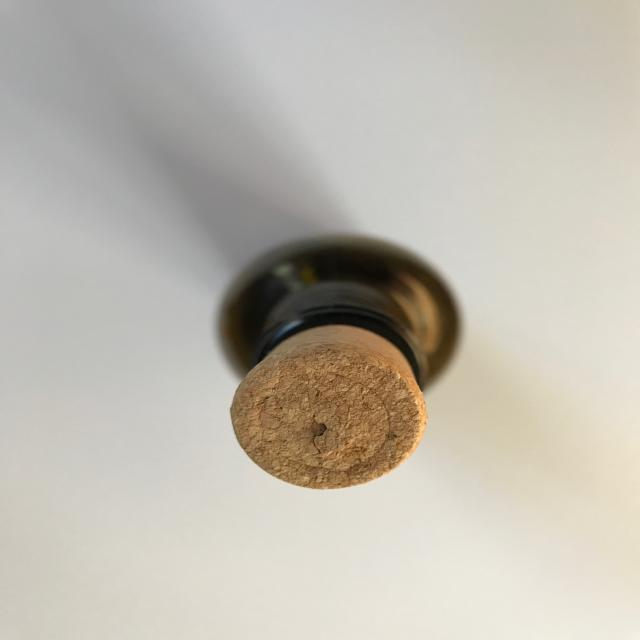glass: (157, 217, 492, 512)
